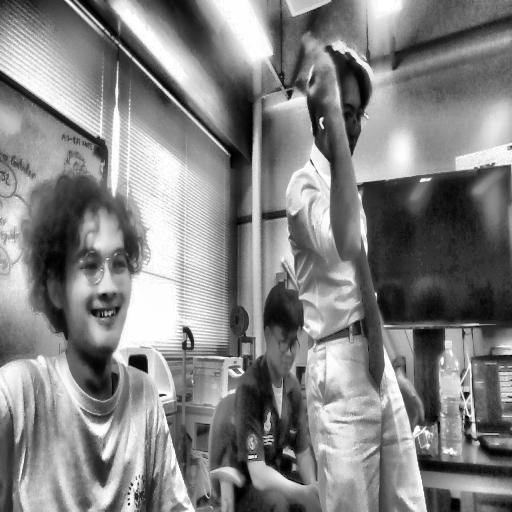Daifuku: (27, 183, 145, 366)
Not Daifuku: (308, 43, 376, 174), (265, 292, 304, 369)
